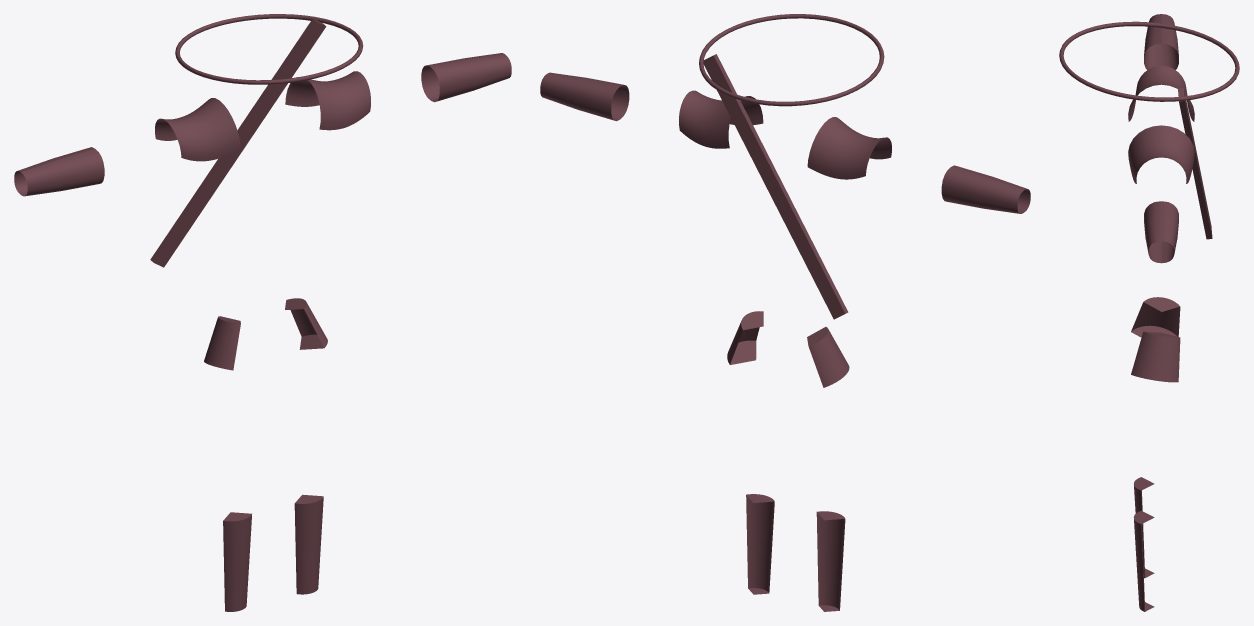
The model's file is vo_kiem_son_mai.glb.
The picture shows the model from 3 angles, left to right: view 1: azimuth 30°, elevation 25°; view 2: azimuth 150°, elevation 25°; view 3: azimuth 270°, elevation 25°; orthographic projection. The views are drawn at different scales.
Parts seen in each view (by area): view 1: nhanvat1_mesh.007; view 2: nhanvat1_mesh.007; view 3: nhanvat1_mesh.007.
Boxes of the visible parts, bbox=[...] form: nhanvat1_mesh.007: bbox=[14, 14, 511, 611]; nhanvat1_mesh.007: bbox=[540, 14, 1030, 611]; nhanvat1_mesh.007: bbox=[1059, 14, 1239, 611].
Bounding box in the file's own units: 1.52 × 1.67 × 0.5105.
